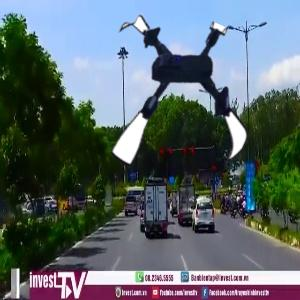drone: (93, 14, 263, 184)
